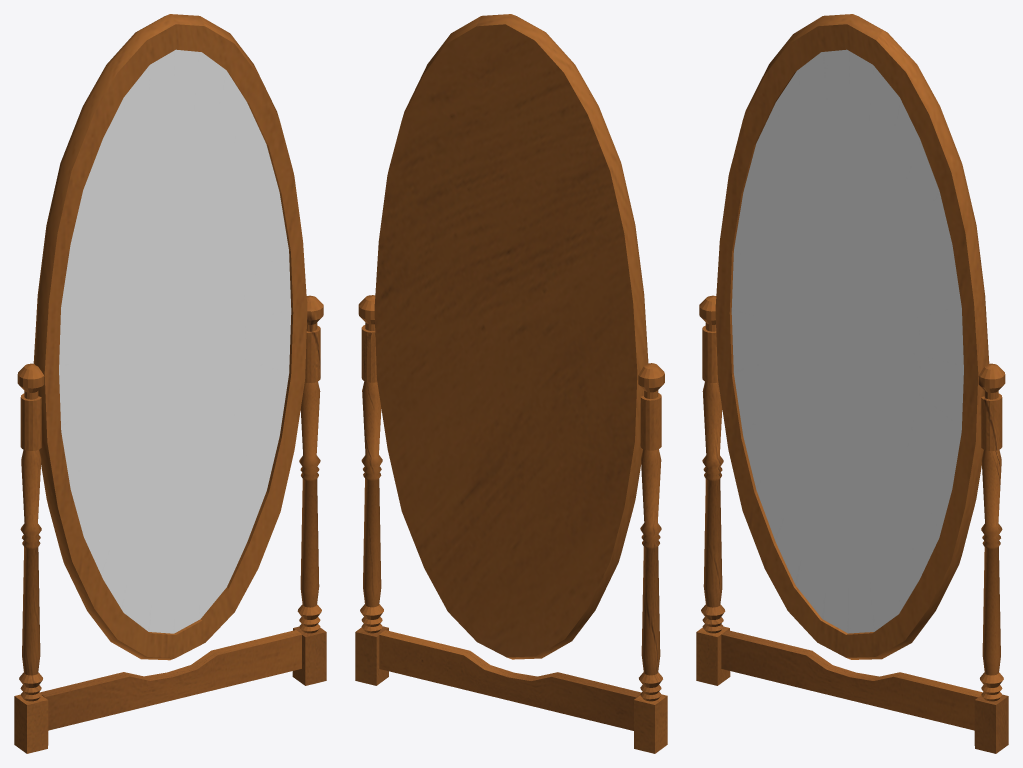
File: Mirror.fbx
3 views of the same model, side by side, from view 1: azimuth 30°, elevation 25°; view 2: azimuth 150°, elevation 25°; view 3: azimuth 330°, elevation 25° (orthographic).
Visible parts, largest first — view 1: Object001, Cylinder001; view 2: Cylinder001; view 3: Object001, Cylinder001.
Boxes of the visible parts, box(x1,y1,x2,y2) form: Object001: box(59, 49, 291, 633); Cylinder001: box(14, 14, 326, 753); Cylinder001: box(355, 14, 667, 753); Object001: box(731, 49, 963, 633); Cylinder001: box(696, 14, 1008, 753).
Bounding box in the file's own units: 102 × 224 × 7.95.
